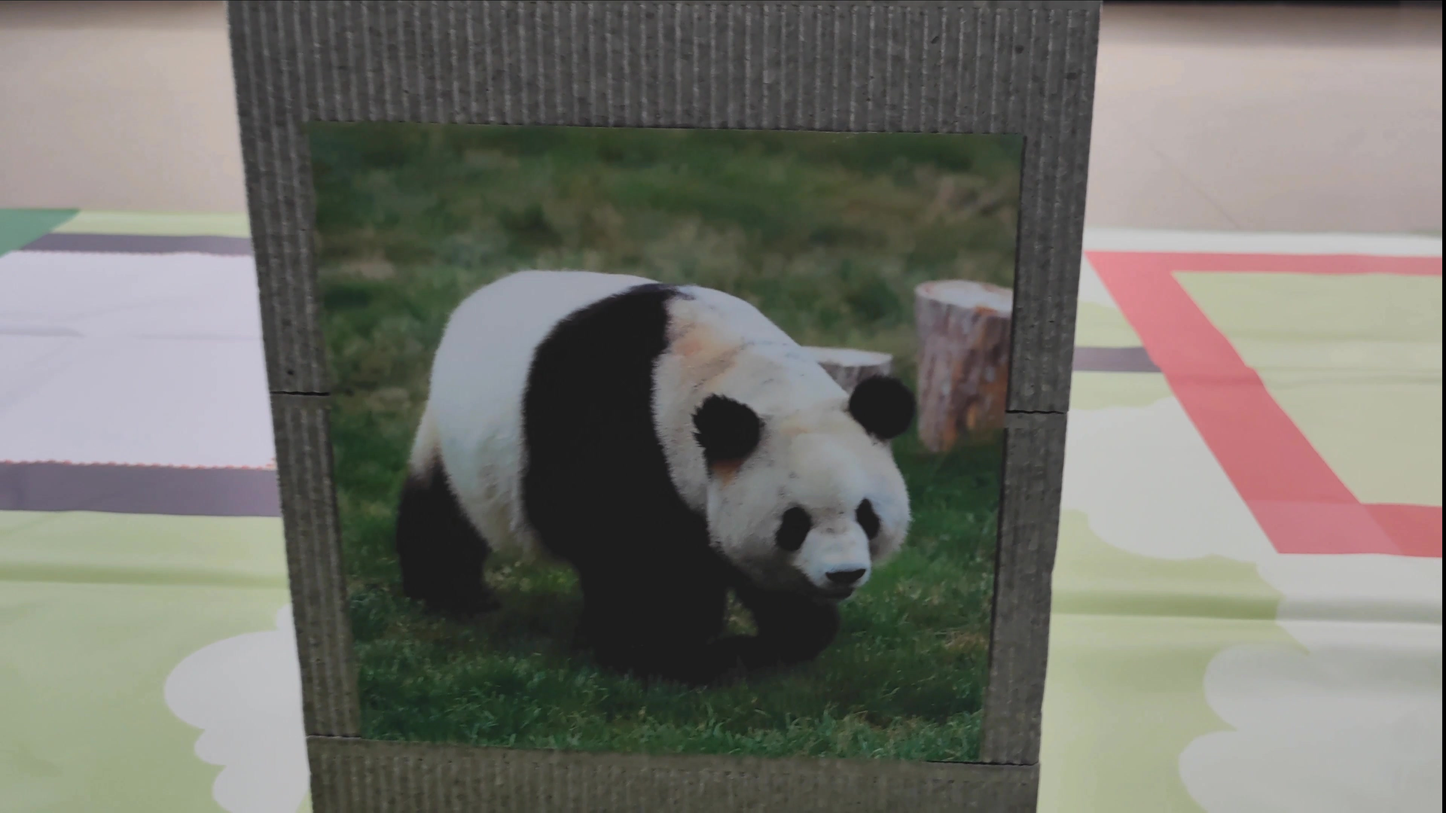panda: (366, 214, 938, 670)
